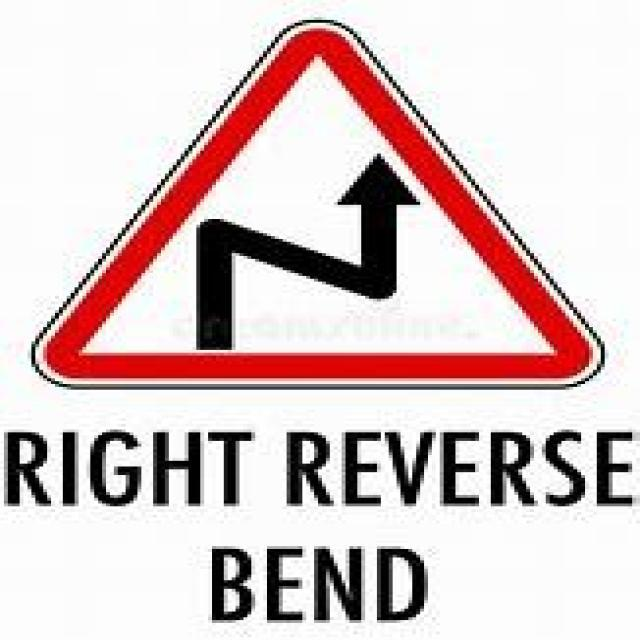right reverse bend: (35, 27, 591, 378)
